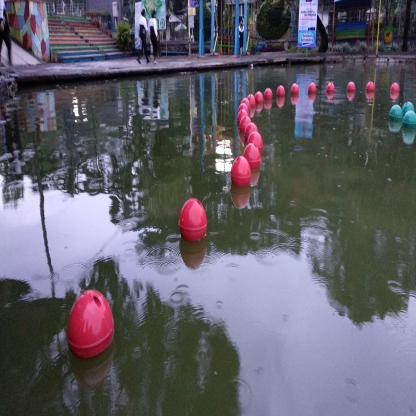green_buoy: (389, 103, 403, 126), (403, 99, 414, 120), (404, 111, 416, 130)
red_buoy: (67, 288, 115, 362), (179, 198, 208, 243), (231, 156, 252, 190), (245, 143, 261, 172), (248, 132, 263, 157), (244, 122, 258, 140), (240, 114, 251, 134), (237, 109, 248, 125), (238, 103, 248, 120), (240, 98, 250, 112), (255, 90, 263, 106), (277, 84, 285, 99), (347, 82, 356, 95), (264, 87, 273, 100), (247, 94, 255, 108), (326, 83, 335, 95), (291, 83, 299, 95), (308, 83, 316, 94)
